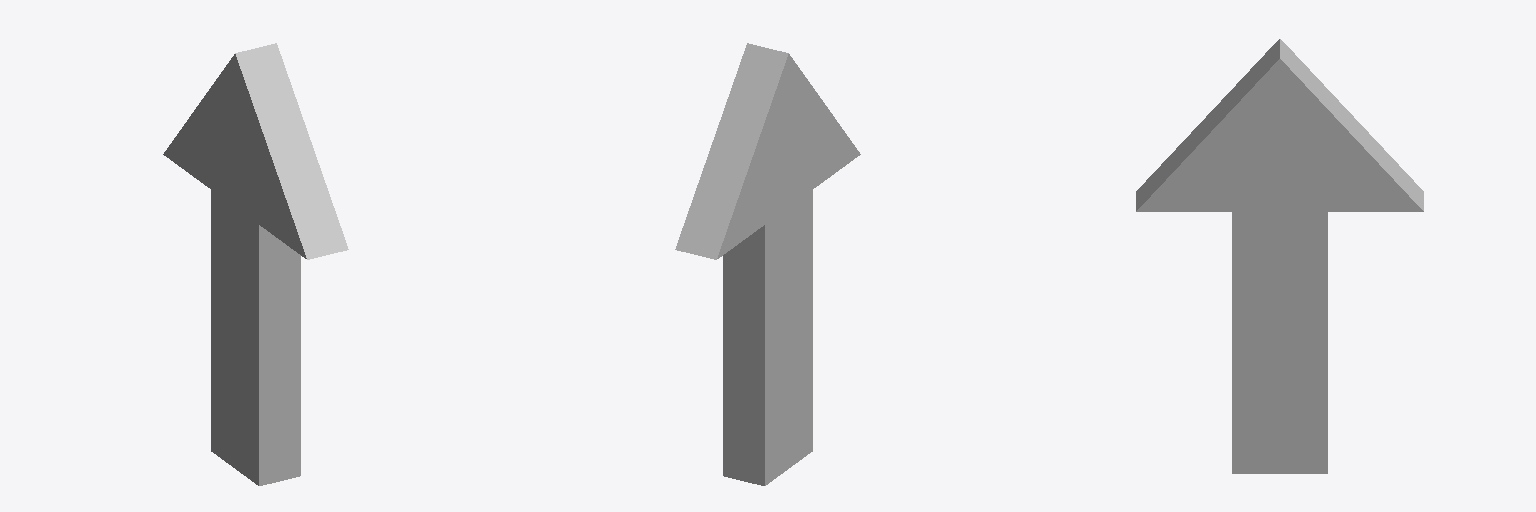
Rendered from arrow.obj.
3 renders of one model, left to right at view 1: azimuth 30°, elevation 25°; view 2: azimuth 150°, elevation 25°; view 3: azimuth 270°, elevation 25°, orthographic.
Bounding box in the file's own units: 12.5 × 119 × 75.